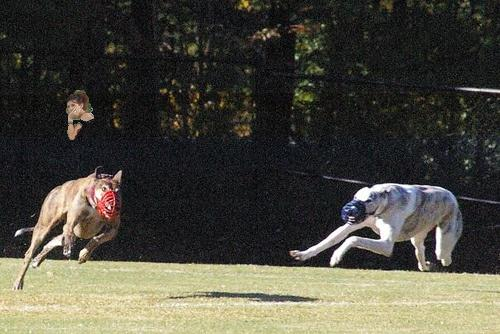tampered: (67, 91, 94, 140)
